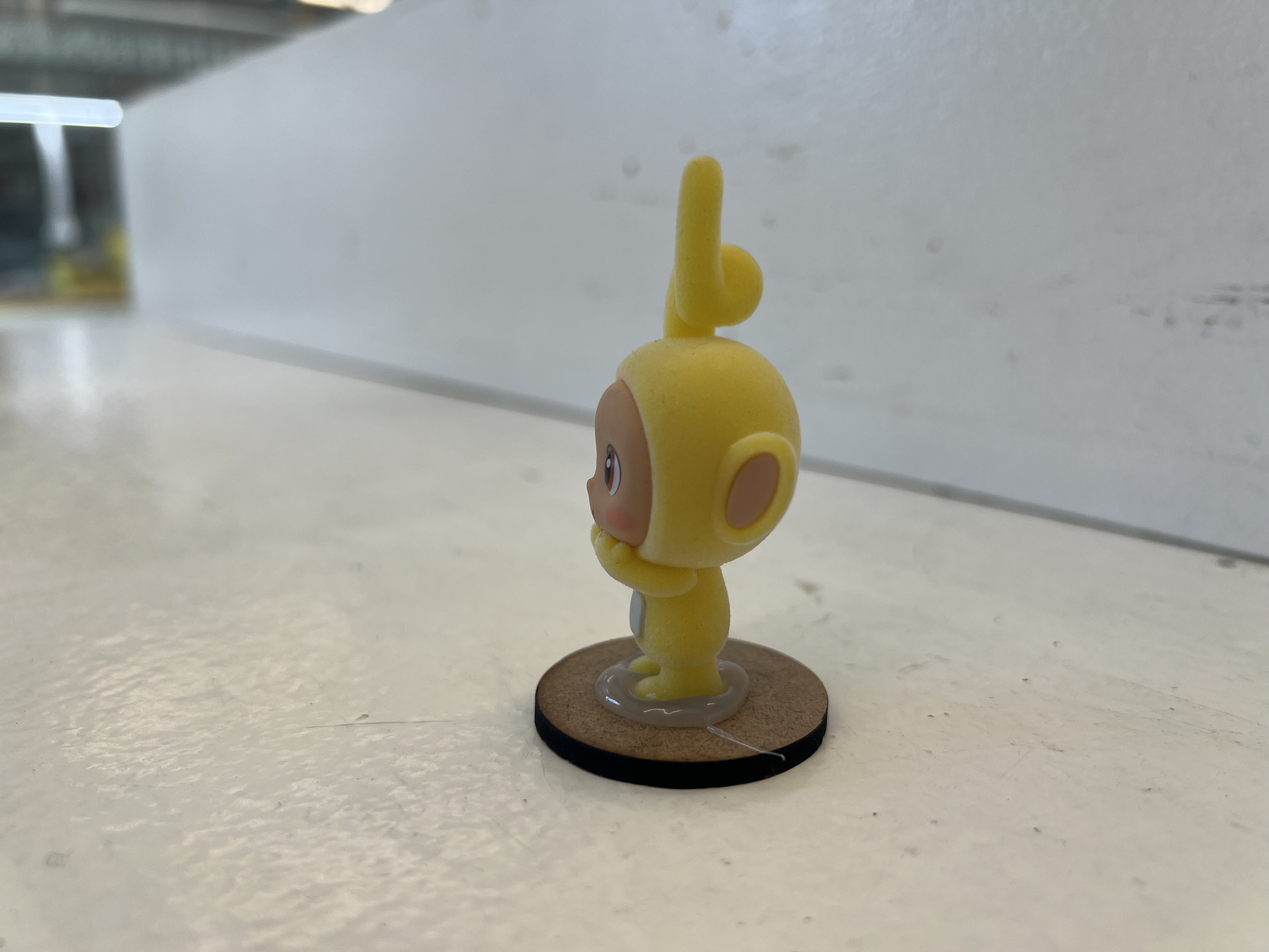teletubby: (587, 157, 800, 706)
